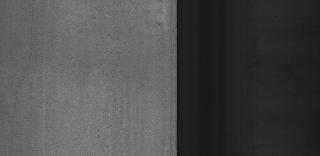inclusion: (91, 124, 105, 142)
silk spot: (62, 14, 118, 86)
